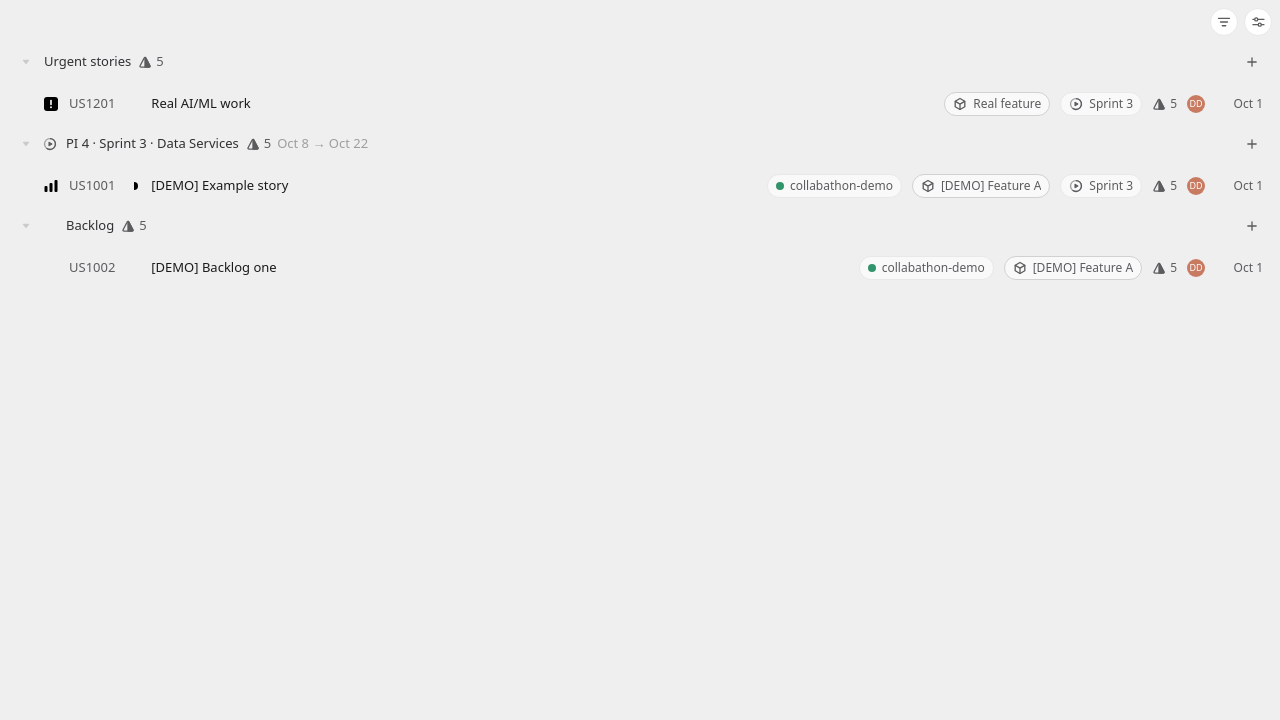
Test: Rally's words › the Sprint filter and its No sprint value
Click the button named "Add filter" at [1224, 22], box x1=1210 y1=8 x2=1238 y2=36
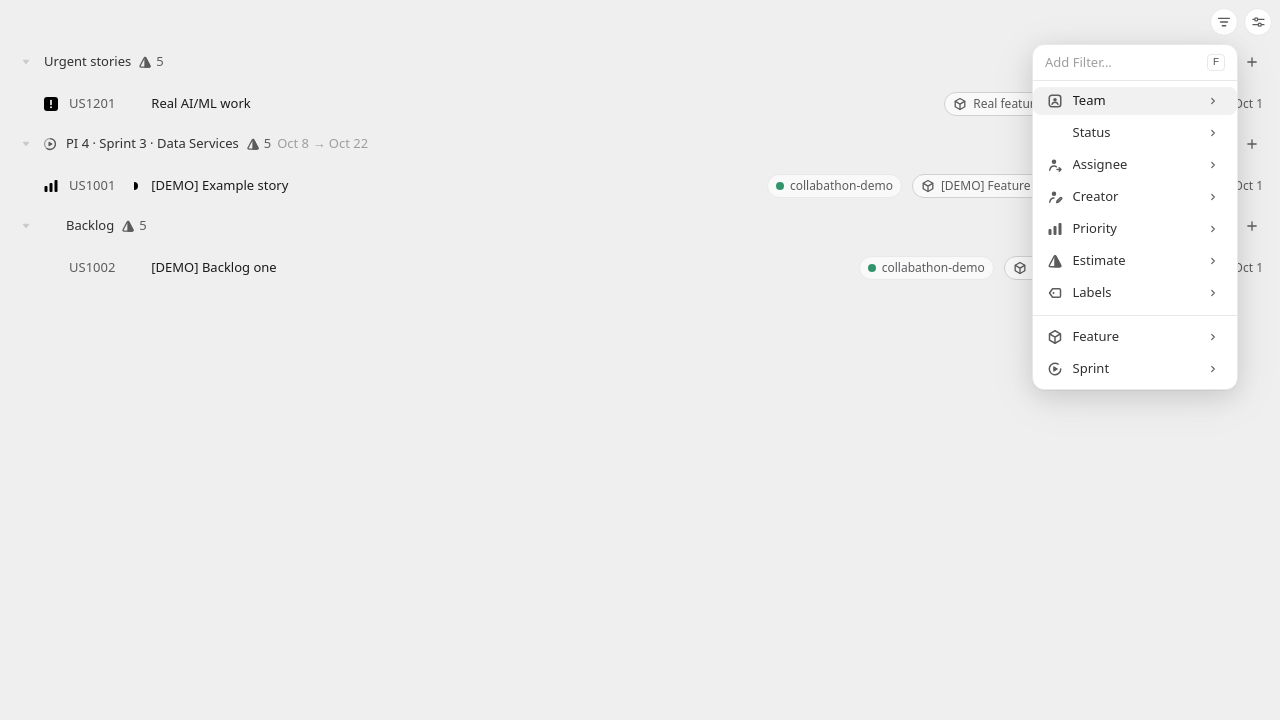
Click the menu item "Sprint" at [1091, 368], box x1=1046 y1=359 x2=1219 y2=377
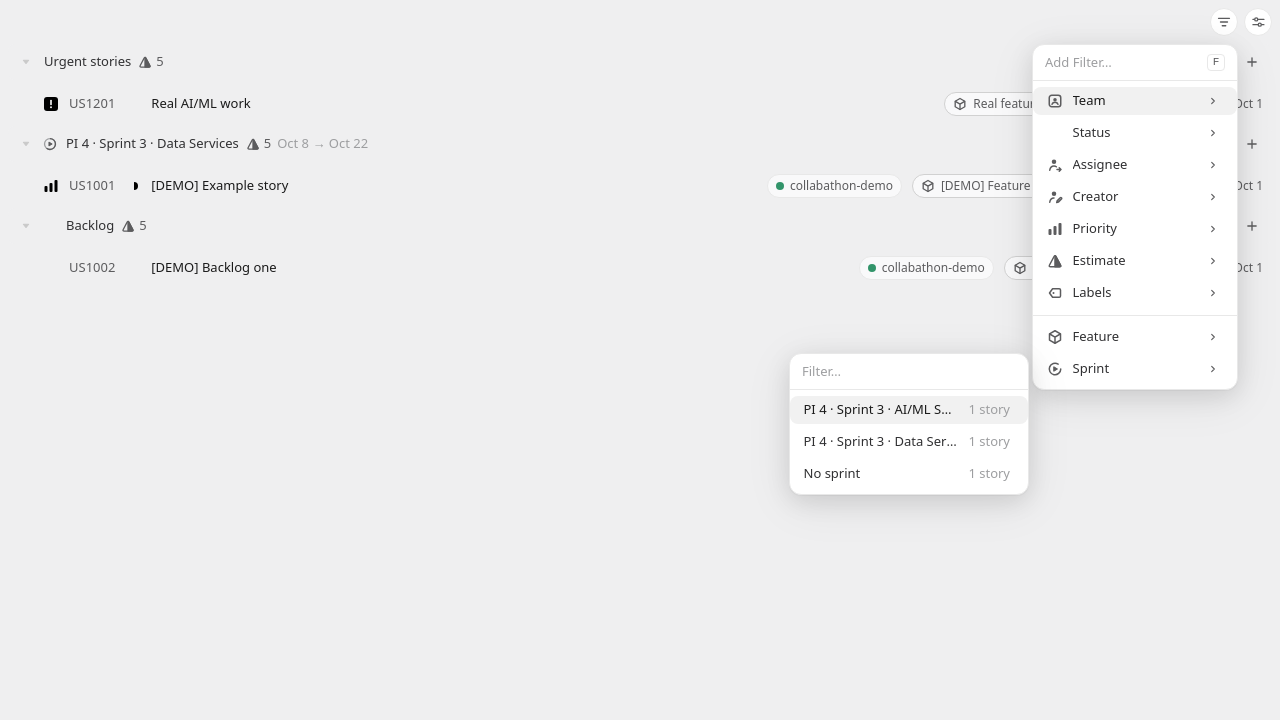
Expected: the menu item "No sprint 1 story" is shown, x1=804 y1=464 x2=1010 y2=482
